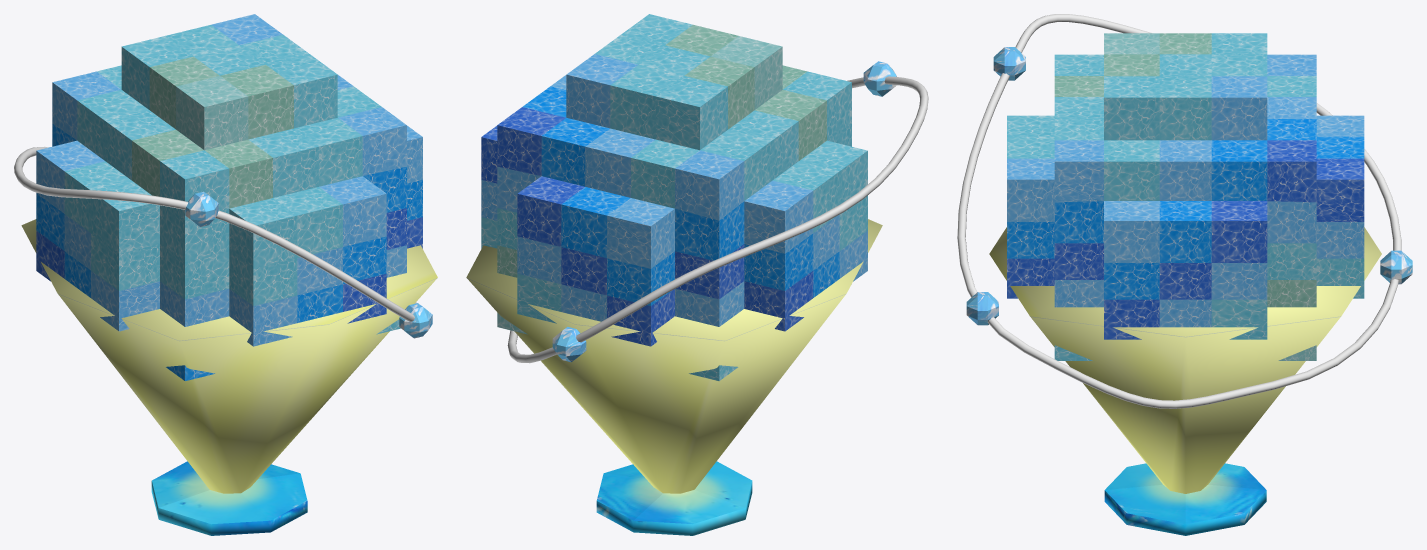
Rendered from shop_3d_042.fbx.
The picture shows the model from 3 angles, left to right: view 1: azimuth 30°, elevation 25°; view 2: azimuth 150°, elevation 25°; view 3: azimuth 270°, elevation 25°; orthographic projection.
Parts seen in each view (by area): view 1: 立方体.001, 立方体.005, 立方体.004, ベジエカーブ; view 2: 立方体.001, 立方体.005, 立方体.004, ベジエカーブ; view 3: 立方体.001, 立方体.005, 立方体.004, ベジエカーブ.
Boxes of the visible parts, x1,y1,x2,y2 form: 立方体.001: (36,14,422,380); 立方体.005: (21,219,437,493); 立方体.004: (151,191,432,535); ベジエカーブ: (14,146,416,321); 立方体.001: (481,14,867,380); 立方体.005: (466,219,882,493); 立方体.004: (552,61,896,535); ベジエカーブ: (507,76,928,363); 立方体.001: (1007,33,1364,360); 立方体.005: (989,227,1381,493); 立方体.004: (966,47,1412,535); ベジエカーブ: (957,14,1401,408).
Size of the model in its own units: 263 by 295 by 279.
